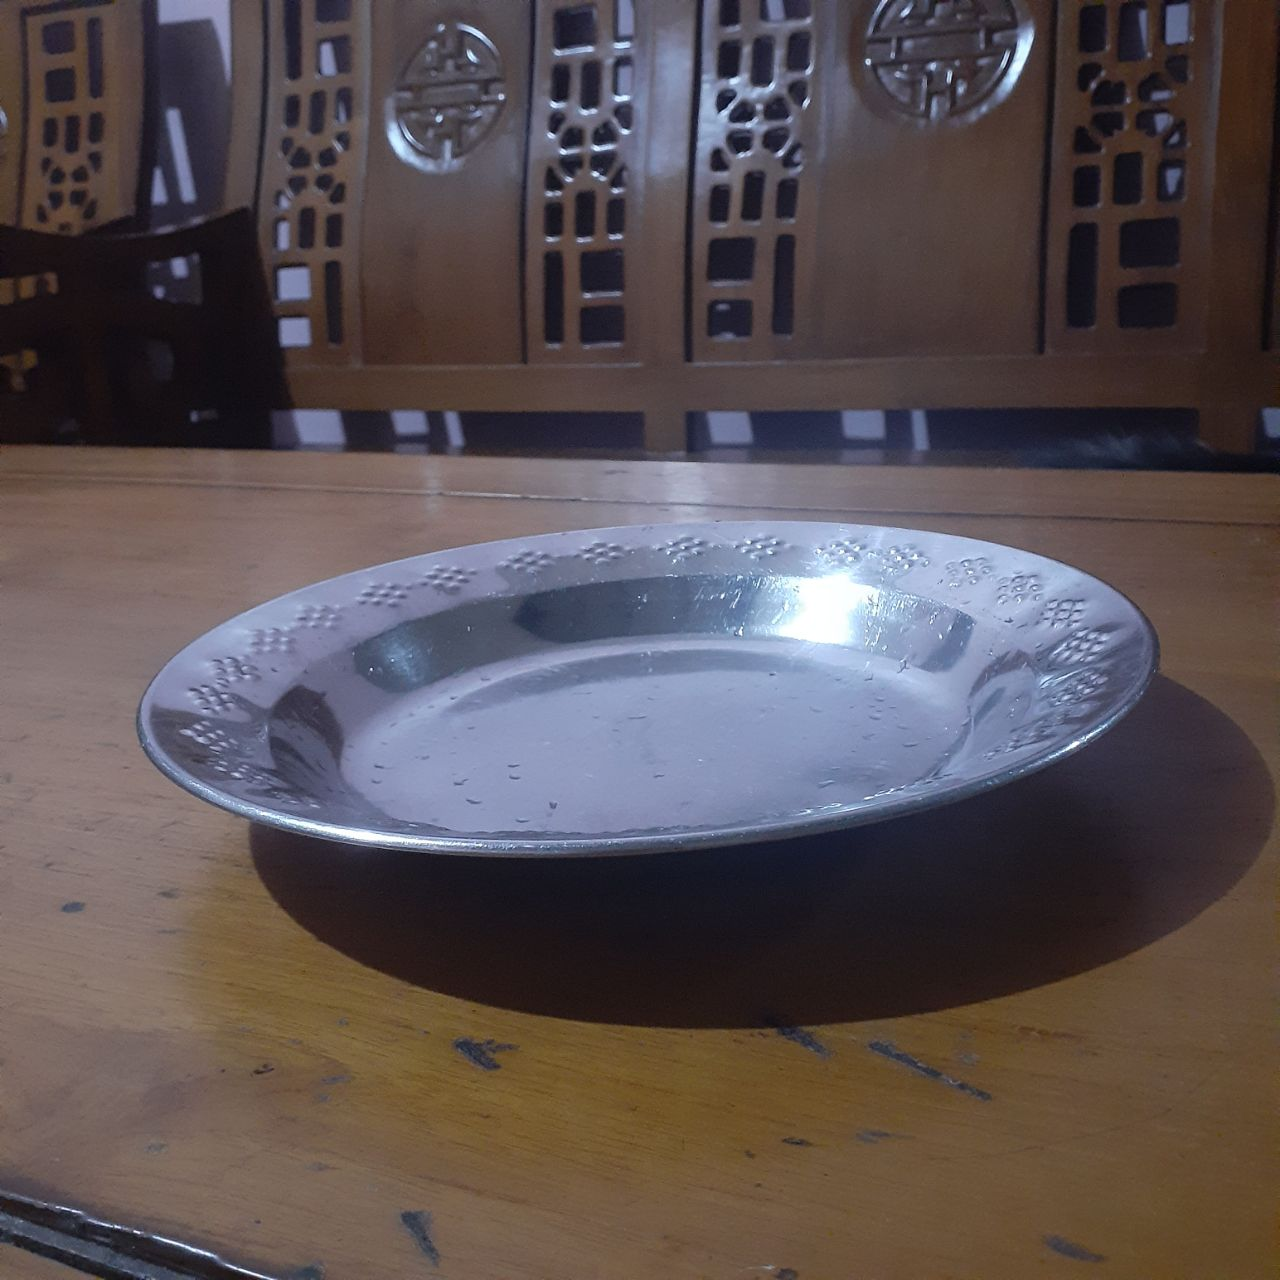piring: (138, 512, 1157, 864)
